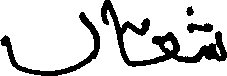ا: (105, 0, 129, 67)
ش: (183, 6, 225, 62)
ع: (151, 30, 179, 64)
ل: (0, 10, 98, 74)
